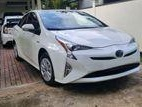car: (12, 7, 141, 91)
